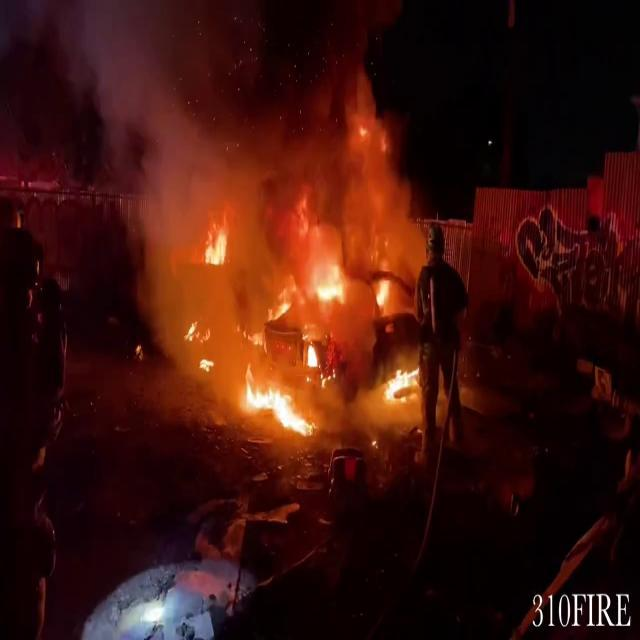Fire: (168, 205, 424, 406), (228, 361, 322, 438), (382, 360, 422, 409)
Smoke: (80, 0, 413, 254)
